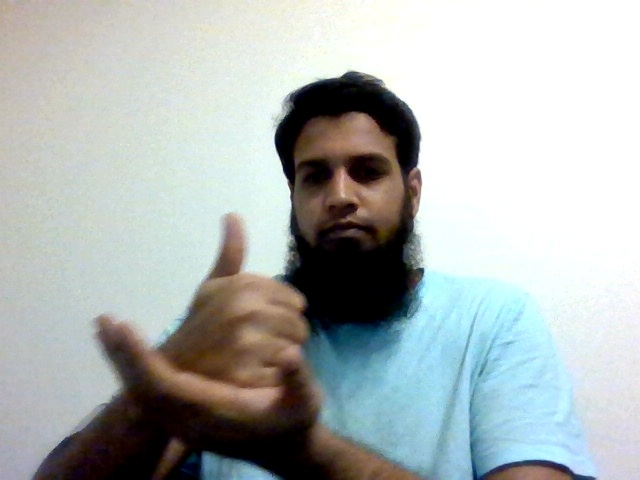help: (92, 212, 326, 464)
